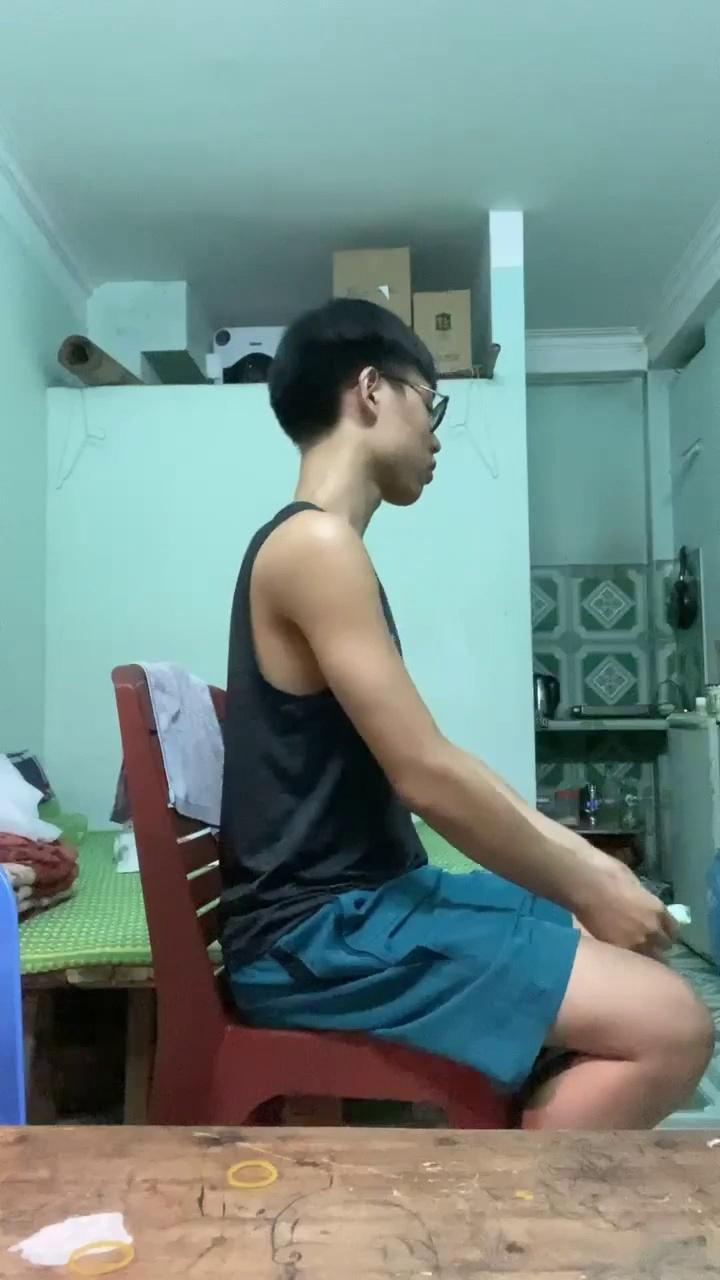GoodPosture: (220, 299, 713, 1128)
